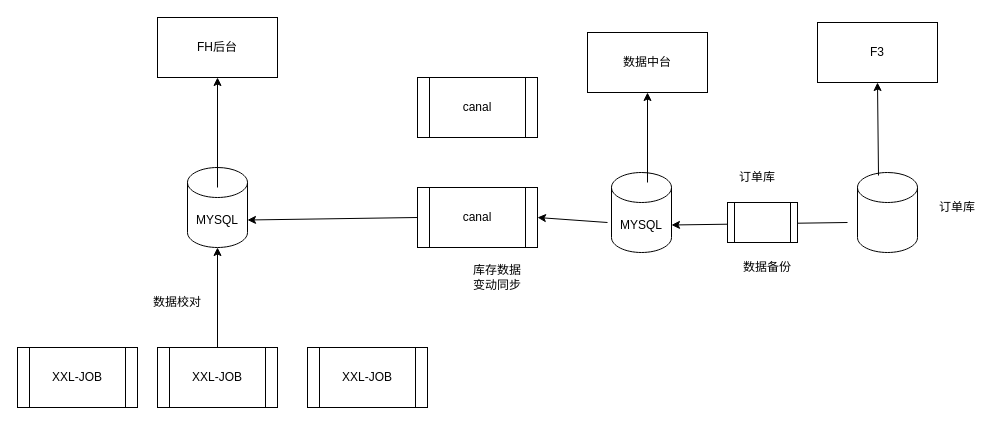
Some shapes in this 1005 by 425 pixel diagram are drawn without their labels. The shapes that lost their labels are listed below. From the top down, each one's centre as x and y in pixels, then its label:
At point 762,222: "DTS".
At point 887,212: "MSSQ".
